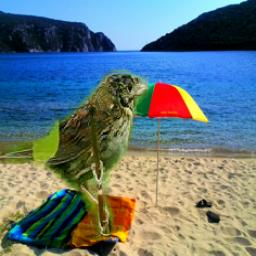Sparrow: (0, 71, 150, 242)
